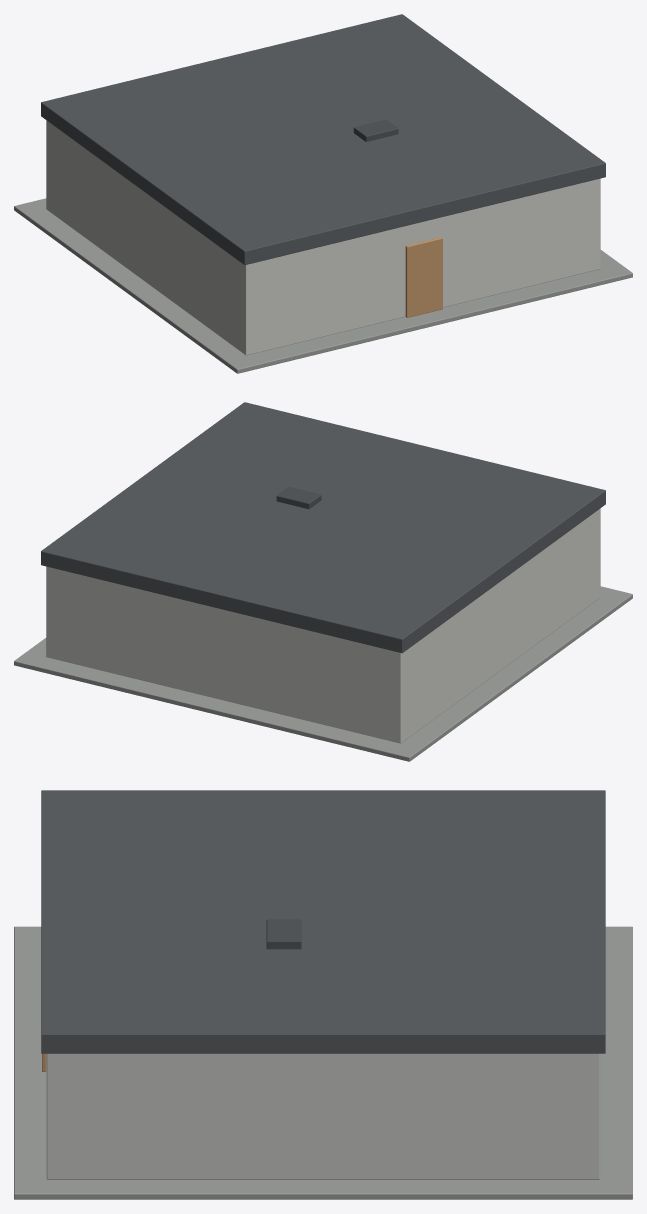
The model's file is Building_Residential_016.glb.
The picture shows the model from 3 angles, top to bottom: view 1: azimuth 30°, elevation 25°; view 2: azimuth 150°, elevation 25°; view 3: azimuth 270°, elevation 25°; orthographic projection. The views are drawn at different scales.
Parts seen in each view (by area): view 1: Building_Residential_016; view 2: Building_Residential_016; view 3: Building_Residential_016.
Part boxes in pixels (left/top/right/bottom): Building_Residential_016: left=14, top=14, right=632, bottom=373; Building_Residential_016: left=14, top=402, right=632, bottom=761; Building_Residential_016: left=14, top=790, right=632, bottom=1199.
Size of the model in its own units: 14.49 by 4.1 by 14.18.
